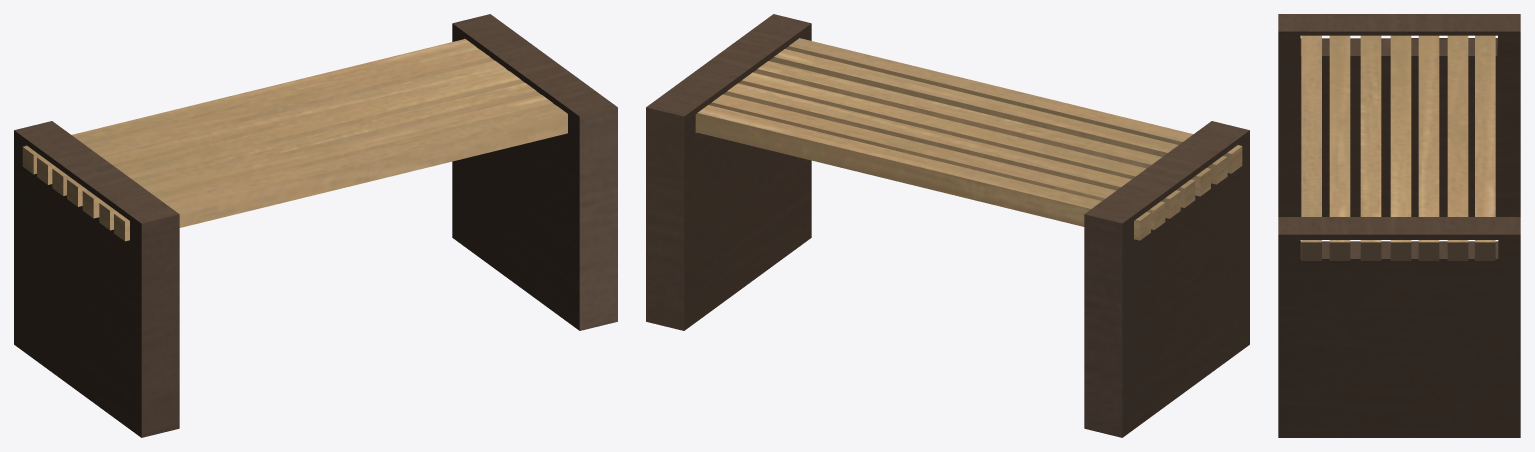
File: FlatParkBench.fbx
3 renders of one model, left to right at view 1: azimuth 30°, elevation 25°; view 2: azimuth 150°, elevation 25°; view 3: azimuth 270°, elevation 25°, orthographic. The views are drawn at different scales.
Visible parts, largest first — view 1: parkBench; view 2: parkBench; view 3: parkBench.
Part boxes in pixels (left/top/right/bottom): parkBench: left=14, top=14, right=617, bottom=437; parkBench: left=646, top=14, right=1249, bottom=437; parkBench: left=1278, top=14, right=1520, bottom=437.
Bounding box in the file's own units: 171 × 72 × 77.63.
Materials: 1 (1 with a texture image).
